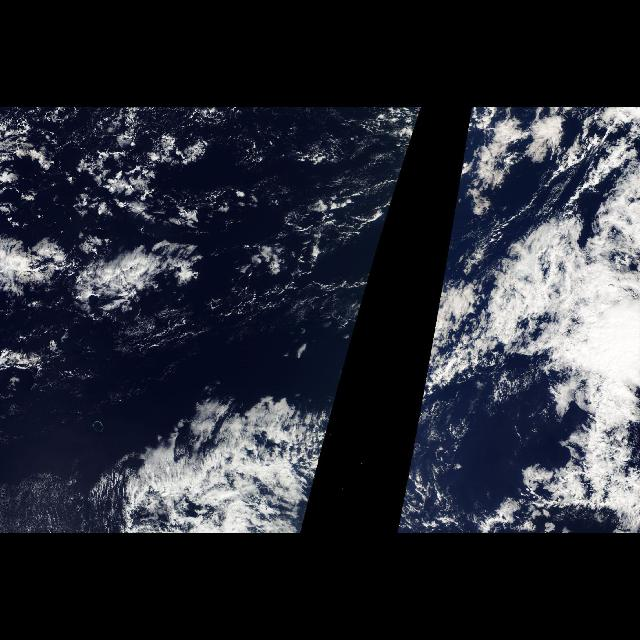Fish: (87, 392, 337, 528)
Flower: (5, 166, 211, 322)
